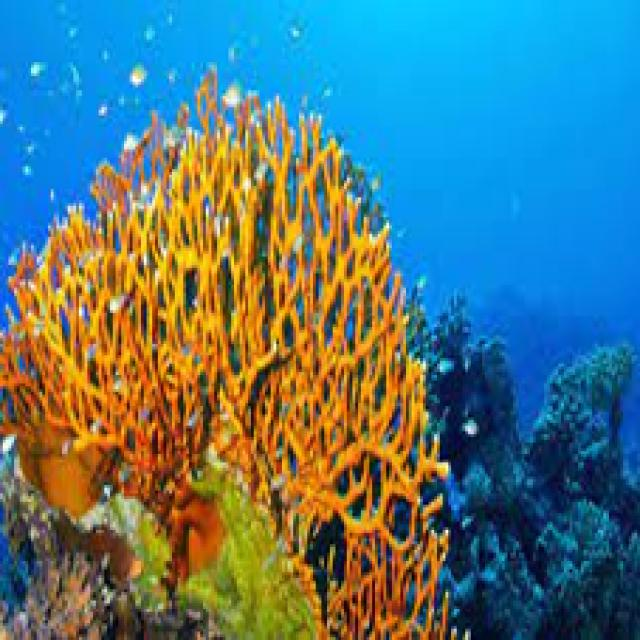Healthy: (1, 77, 446, 638)
